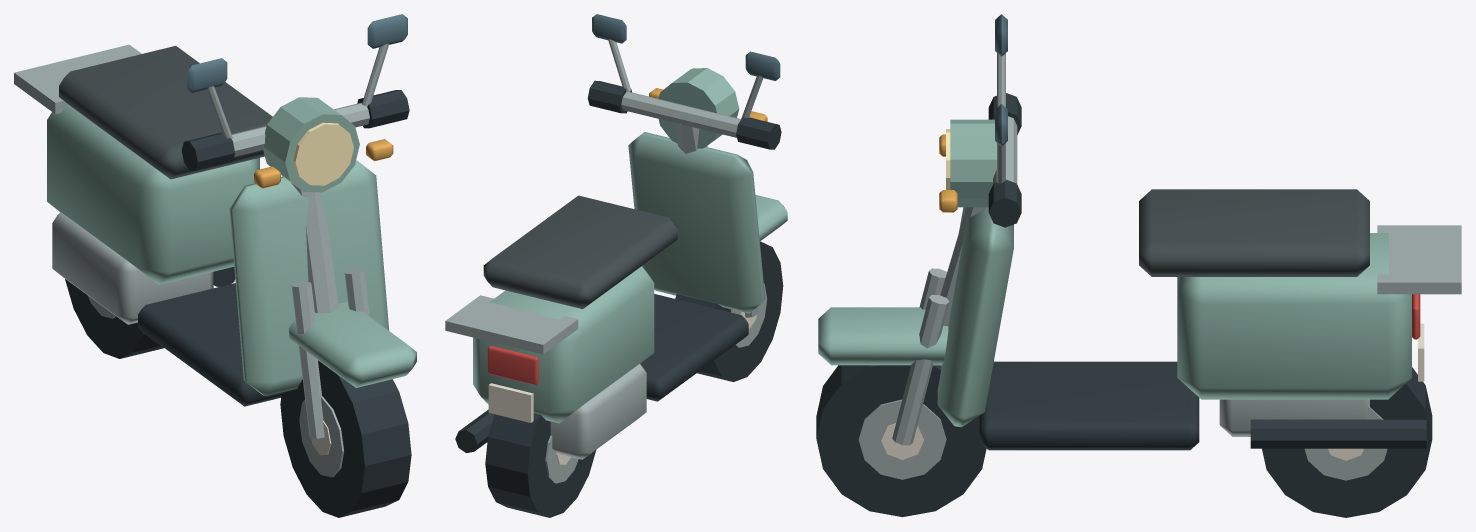
The model's file is komachi-commuter-scooter.glb.
The picture shows the model from 3 angles, left to right: view 1: azimuth 30°, elevation 25°; view 2: azimuth 150°, elevation 25°; view 3: azimuth 270°, elevation 25°; orthographic projection. The views are drawn at different scales.
Visible parts, largest first — view 1: Rear_Body, Leg_Shield, Seat, Wheel_Front_Tyre, Step_Through_Floor, Engine_Case, Front_Mudguard, Headlamp_Housing, Headlamp, Steering_Column, Wheel_Rear_Tyre, Rear_Rack (+12 smaller); view 2: Leg_Shield, Rear_Body, Seat, Wheel_Rear_Tyre, Step_Through_Floor, Engine_Case, Rear_Rack, Wheel_Front_Tyre, Headlamp_Housing, Handlebar, Rear_Lamp, Rear_Plate (+10 smaller); view 3: Rear_Body, Seat, Step_Through_Floor, Wheel_Front_Tyre, Leg_Shield, Wheel_Rear_Tyre, Front_Mudguard, Rear_Rack, Exhaust, Headlamp_Housing, Wheel_Front_Hub, Engine_Case (+6 smaller).
Boxes of the visible parts, x1,y1,x2,y2 form: Rear_Body: [47, 104, 259, 284]; Leg_Shield: [229, 160, 389, 396]; Seat: [59, 46, 272, 179]; Wheel_Front_Tyre: [280, 360, 411, 517]; Step_Through_Floor: [138, 283, 284, 406]; Engine_Case: [52, 212, 213, 324]; Front_Mudguard: [289, 301, 416, 387]; Headlamp_Housing: [263, 97, 359, 192]; Headlamp: [293, 122, 353, 185]; Steering_Column: [291, 182, 338, 313]; Wheel_Rear_Tyre: [65, 279, 163, 358]; Rear_Rack: [14, 44, 141, 114]; Leg_Shield: [628, 132, 765, 313]; Rear_Body: [473, 266, 654, 423]; Seat: [483, 195, 677, 309]; Wheel_Rear_Tyre: [485, 413, 596, 517]; Step_Through_Floor: [640, 294, 748, 401]; Engine_Case: [550, 364, 646, 459]; Rear_Rack: [445, 295, 578, 354]; Wheel_Front_Tyre: [675, 241, 783, 381]; Headlamp_Housing: [658, 68, 739, 148]; Handlebar: [621, 92, 740, 137]; Rear_Lamp: [487, 345, 538, 384]; Rear_Plate: [488, 383, 533, 422]; Rear_Body: [1177, 233, 1411, 399]; Seat: [1139, 189, 1369, 276]; Step_Through_Floor: [979, 361, 1199, 450]; Wheel_Front_Tyre: [816, 365, 986, 517]; Leg_Shield: [937, 207, 1013, 427]; Wheel_Rear_Tyre: [1262, 367, 1432, 517]; Front_Mudguard: [818, 307, 948, 365]; Rear_Rack: [1377, 225, 1461, 294]; Exhaust: [1250, 419, 1426, 448]; Headlamp_Housing: [950, 119, 996, 207]; Wheel_Front_Hub: [858, 399, 946, 479]; Engine_Case: [1219, 399, 1369, 436].
Bounding box in the file's own units: 0.142 × 0.2645 × 0.352.
